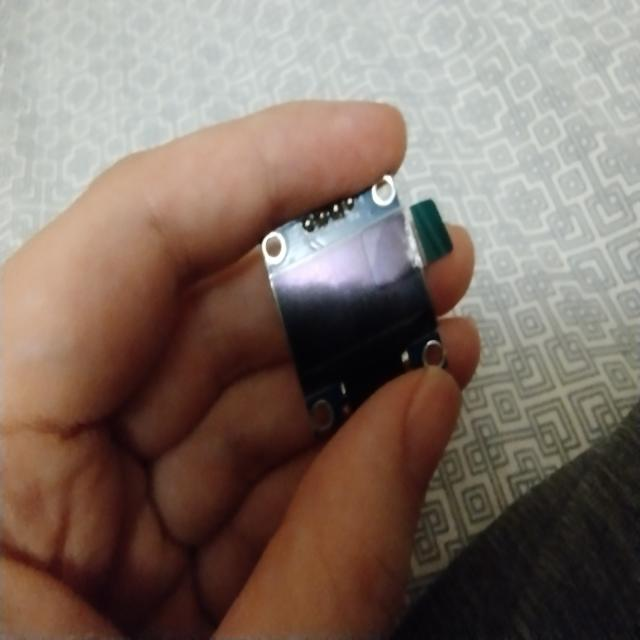oled: (253, 173, 457, 436)
